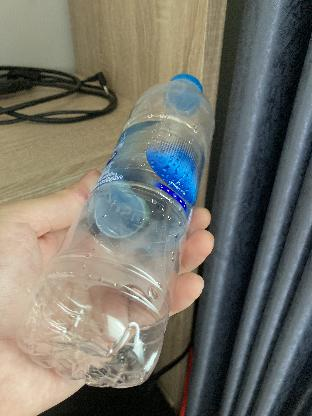Plastic Bottle: (14, 71, 218, 388)
